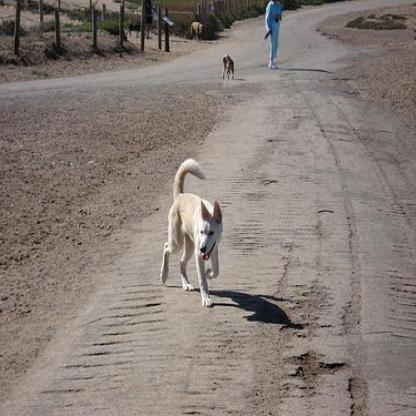Siberian_husky: (160, 156, 224, 310)
